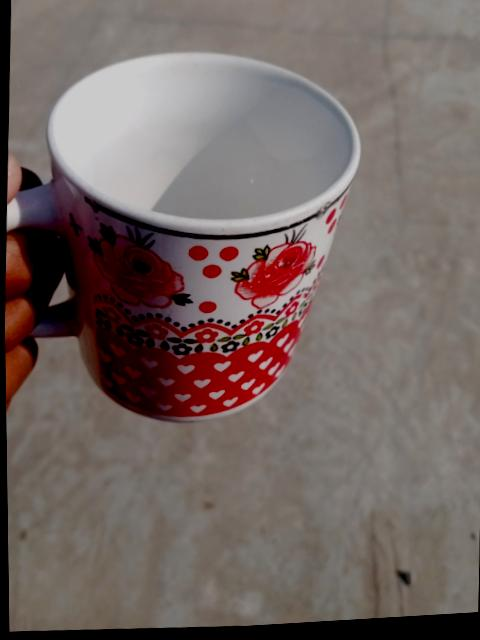Cup: (6, 53, 359, 421)
